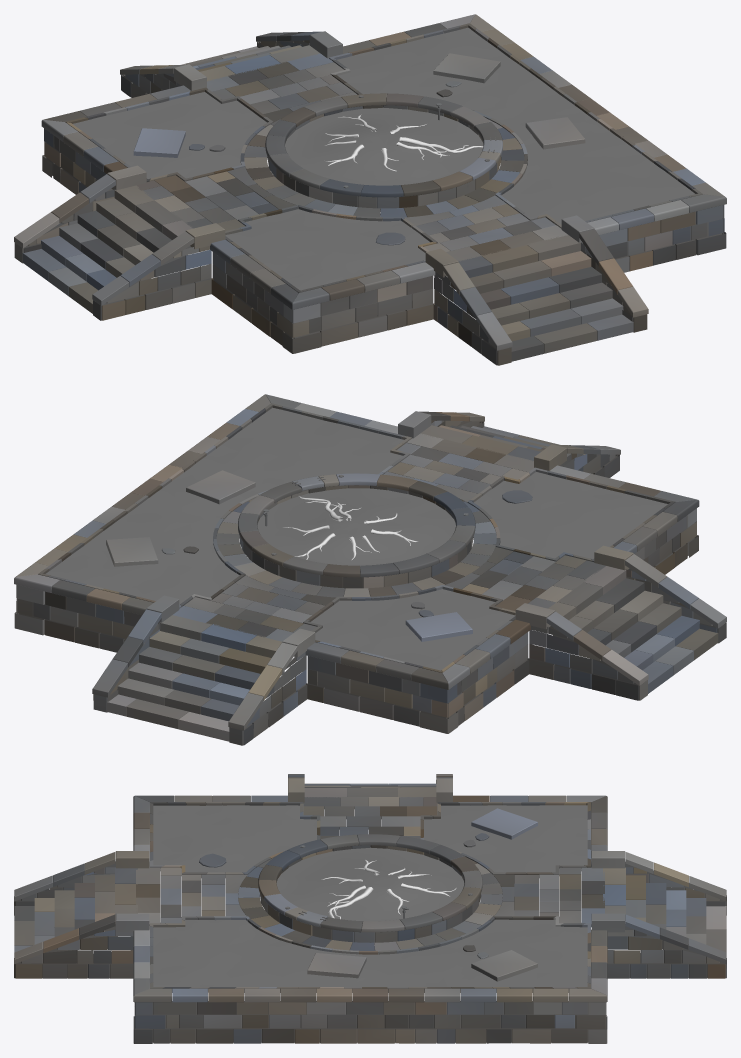
File: WardHill_LOD1.glb
3 renders of one model, top to bottom at view 1: azimuth 30°, elevation 25°; view 2: azimuth 150°, elevation 25°; view 3: azimuth 270°, elevation 25°, orthographic. The views are drawn at different scales.
Parts seen in each view (by area): view 1: WH_Walls_LOD1, WH_BedSoil_LOD1, WH_Paving_LOD1, WH_Stairs_LOD1, WH_RingSoil_LOD1, WH_Ring_LOD1, WH_Roots_LOD1; view 2: WH_Walls_LOD1, WH_BedSoil_LOD1, WH_Paving_LOD1, WH_Stairs_LOD1, WH_RingSoil_LOD1, WH_Ring_LOD1, WH_Roots_LOD1; view 3: WH_Walls_LOD1, WH_BedSoil_LOD1, WH_Paving_LOD1, WH_Stairs_LOD1, WH_RingSoil_LOD1, WH_Ring_LOD1, WH_Roots_LOD1.
Boxes of the visible parts, box(x1,y1,x2,y2) form: WH_Walls_LOD1: box(14, 14, 726, 365); WH_BedSoil_LOD1: box(73, 27, 694, 290); WH_Paving_LOD1: box(65, 23, 702, 292); WH_Stairs_LOD1: box(22, 45, 633, 361); WH_RingSoil_LOD1: box(285, 107, 483, 185); WH_Ring_LOD1: box(265, 93, 502, 208); WH_Roots_LOD1: box(324, 114, 483, 171); WH_Walls_LOD1: box(14, 394, 726, 745); WH_BedSoil_LOD1: box(46, 407, 667, 670); WH_Paving_LOD1: box(38, 403, 675, 672); WH_Stairs_LOD1: box(107, 425, 718, 741); WH_RingSoil_LOD1: box(257, 488, 455, 568); WH_Ring_LOD1: box(238, 473, 475, 588); WH_Roots_LOD1: box(283, 495, 417, 559); WH_Walls_LOD1: box(14, 774, 726, 1043); WH_BedSoil_LOD1: box(149, 804, 587, 988); WH_Paving_LOD1: box(136, 797, 604, 992); WH_Stairs_LOD1: box(14, 783, 726, 958); WH_RingSoil_LOD1: box(276, 847, 464, 921); WH_Ring_LOD1: box(258, 834, 482, 942); WH_Roots_LOD1: box(321, 860, 456, 919).
Size of the model in its own units: 17.72 by 2.32 by 21.28.
